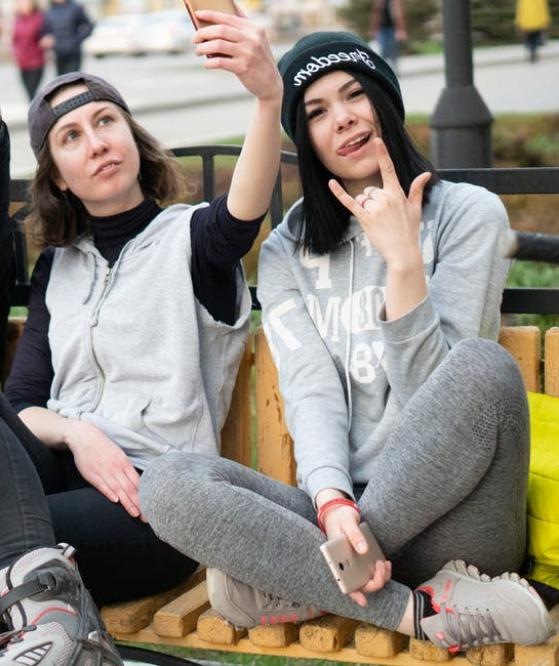face: (51, 87, 142, 196), (302, 71, 386, 180)
